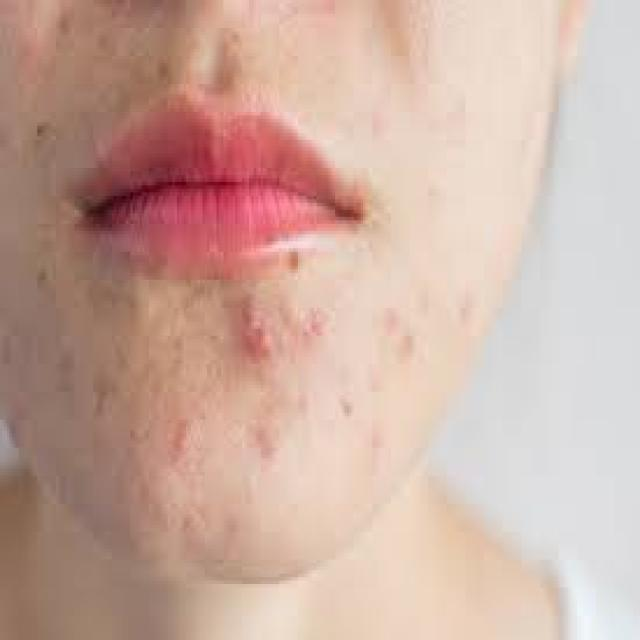Acne: (242, 303, 274, 362), (303, 312, 327, 341), (173, 422, 189, 452)
